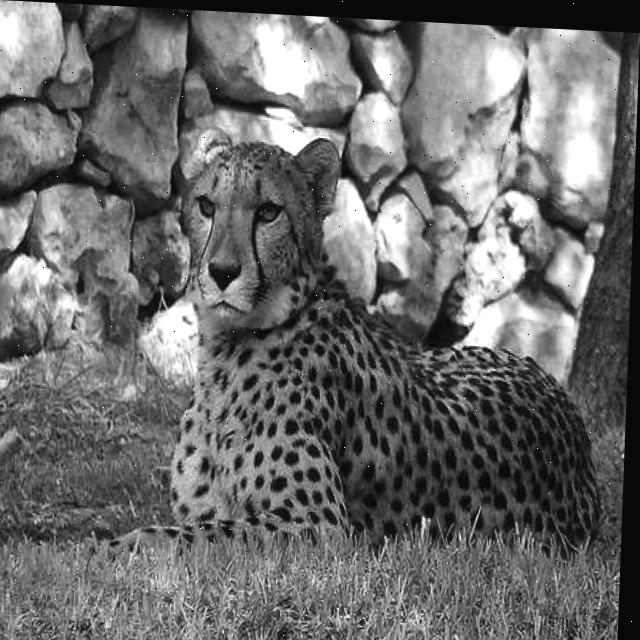Leopard: (90, 124, 616, 580)
